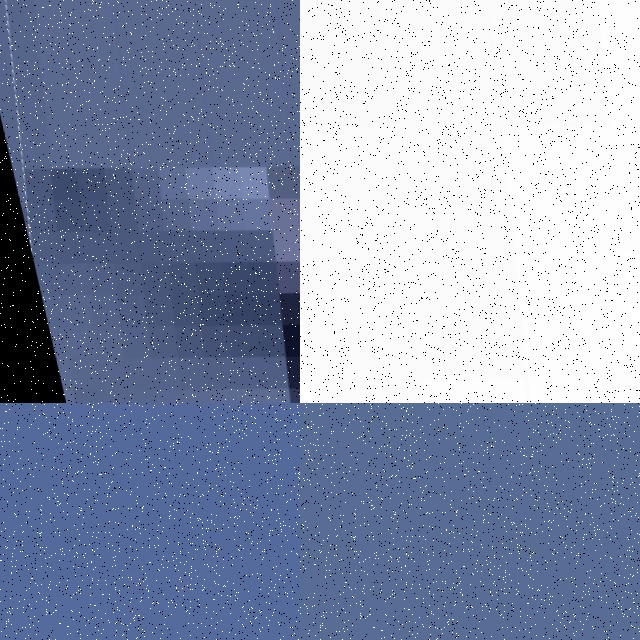drone: (300, 0, 640, 403), (0, 0, 300, 403)
